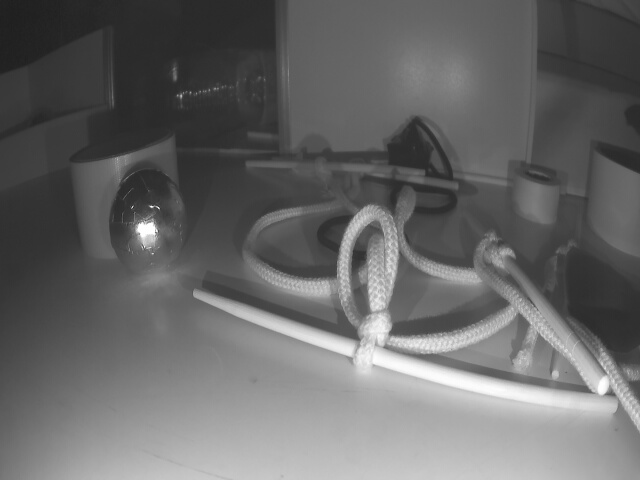Dead: (387, 116, 432, 172)
Live: (107, 171, 192, 268)
Point: (0, 102, 103, 187)
